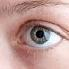eye: (30, 26, 50, 44)
